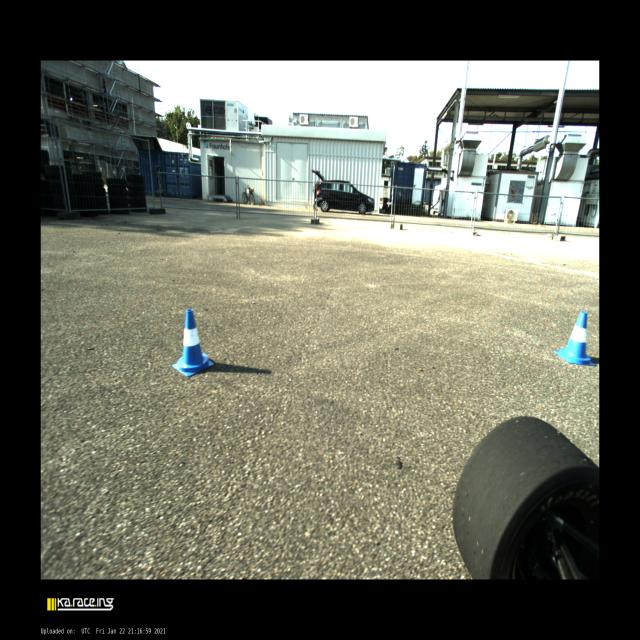blue_cone: (172, 309, 214, 376), (554, 311, 596, 365)
